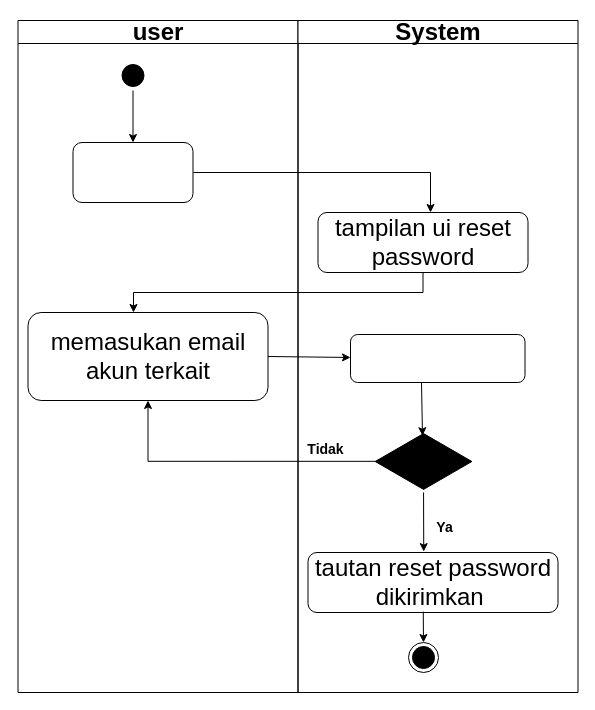
Image size: 595x710. Some labels were removed from this diagram. The shapes that lost their labels are listed below. From the top down, each one's centre as x and y in pixels, then its label:
At (132,172): "reset password".
At (437,358): "email terdaftar".
